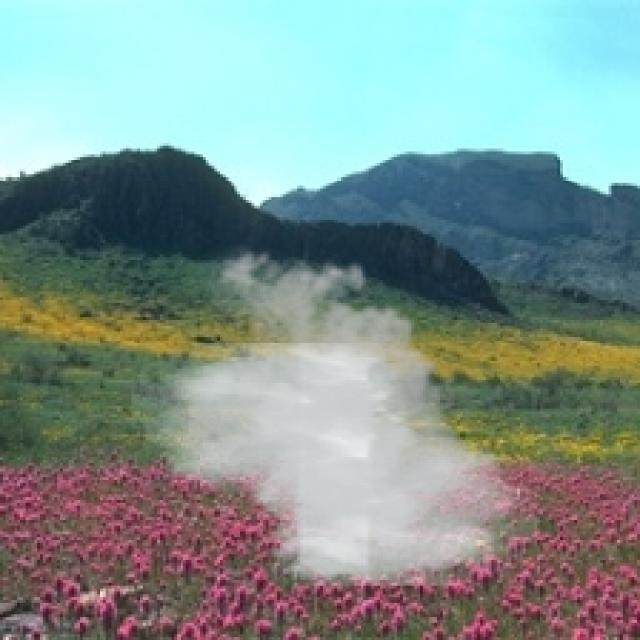smoke: (132, 240, 537, 586)
